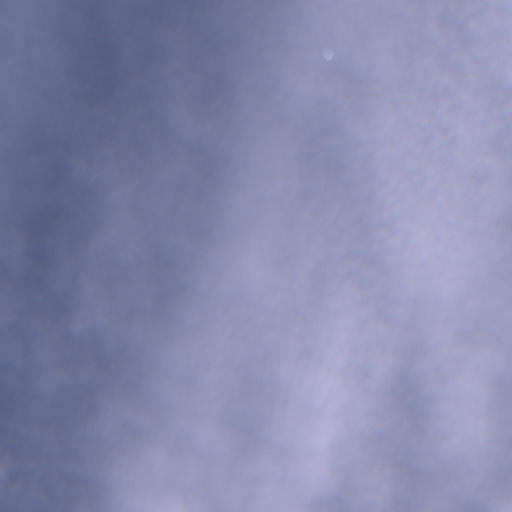Iceberg: (323, 50, 333, 59)
